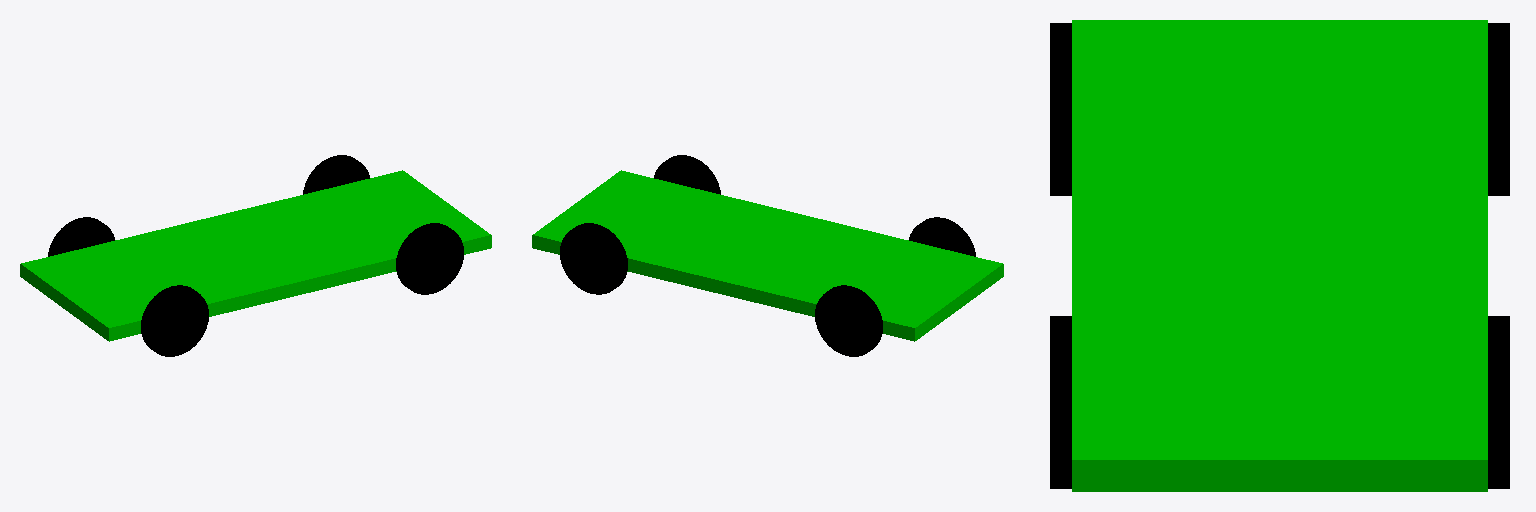
URDF robot description (first_robot):
<?xml version="1.0"?>
<robot name="first_robot">
    <material name="blue">
        <color rgba="0 0 0.8 1"/>
    </material>
    <material name="red">
        <color rgba="0.8 0 0 1"/>
    </material>
    <material name="green">
        <color rgba="0 0.8 0 1"/>
    </material>
    <material name="grey">
        <color rgba="0.75 0.75 0.75 1"/>
    </material>
    <material name="white">
        <color rgba="1.0 1.0 1.0 1"/>
    </material>
    <material name="black">
        <color rgba="0 0 0 1"/>
    </material>

    <link name="base_link">
        <visual>
        <origin rpy="0 0 0" xyz="0 0 0"/>
        <geometry>
            <box size="1.5 .6 .05"/>
        </geometry>
        <material name="green"/>
        </visual>
    </link>
    
    <link name="wheel_1_link">
        <visual>
            <origin rpy="1.57 0 0" xyz="0 0 0"/> <!-- center of the wheel -->
            <geometry>
                <cylinder radius="0.125" length="0.03125"/>
            </geometry>
            <material name="black"/>
        </visual>
    </link>
    
    <joint name="wheel_1_joint" type="continuous">
        <parent link="base_link"/>
        <child link="wheel_1_link"/>
        <origin xyz="0.5 0.315625 0" rpy="0 0 0"/> <!-- joint location -->
        <limit effort="0.1" velocity="0.01"/>
        <axis xyz="0 1 0"/>
    </joint>

    <link name="wheel_2_link">
        <visual>
            <origin rpy="1.57 0 0" xyz="0 0 0"/> <!-- center of the wheel -->
            <geometry>
                <cylinder radius="0.125" length="0.03125"/>
            </geometry>
            <material name="black"/>
        </visual>
    </link>
    
    <joint name="wheel_2_joint" type="continuous">
        <parent link="base_link"/>
        <child link="wheel_2_link"/>
        <origin xyz="-0.5 0.315625 0" rpy="0 0 0"/> <!-- joint location -->
        <limit effort="0.1" velocity="0.01"/>
        <axis xyz="0 1 0"/>
    </joint>
    
    <link name="wheel_3_link">
        <visual>
            <origin rpy="1.57 0 0" xyz="0 0 0"/> <!-- center of the wheel -->
            <geometry>
                <cylinder radius="0.125" length="0.03125"/>
            </geometry>
            <material name="black"/>
        </visual>
    </link>
    
    <joint name="wheel_3_joint" type="continuous">
        <parent link="base_link"/>
        <child link="wheel_3_link"/>
        <origin xyz="0.5 -0.315625 0" rpy="0 0 0"/> <!-- joint location -->
        <limit effort="0.1" velocity="0.01"/>
        <axis xyz="0 1 0"/>
    </joint>

    <link name="wheel_4_link">
        <visual>
            <origin rpy="1.57 0 0" xyz="0 0 0"/> <!-- center of the wheel -->
            <geometry>
                <cylinder radius="0.125" length="0.03125"/>
            </geometry>
            <material name="black"/>
        </visual>
    </link>
    
    <joint name="wheel_4_joint" type="continuous">
        <parent link="base_link"/>
        <child link="wheel_4_link"/>
        <origin xyz="-0.5 -0.315625 0" rpy="0 0 0"/> <!-- joint location -->
        <limit effort="0.1" velocity="0.01"/>
        <axis xyz="0 1 0"/>
    </joint>
</robot>

--- Facts derived from the render (not from the file) ---
The picture shows the robot from 3 angles, left to right: view 1: azimuth 30°, elevation 25°; view 2: azimuth 150°, elevation 25°; view 3: azimuth 270°, elevation 25°; orthographic projection.
Robot: first_robot — 5 links, 4 joints (4 continuous); root link base_link; default pose: all joints at 0.
Links seen in each view (by area): view 1: base_link, wheel_3_link, wheel_4_link, wheel_2_link, wheel_1_link; view 2: base_link, wheel_1_link, wheel_2_link, wheel_4_link, wheel_3_link; view 3: base_link, wheel_1_link, wheel_2_link, wheel_3_link, wheel_4_link.
Link boxes in pixels (bbox=[...]): base_link: bbox=[20, 170, 491, 341]; wheel_3_link: bbox=[396, 223, 463, 294]; wheel_4_link: bbox=[141, 285, 208, 356]; wheel_2_link: bbox=[48, 217, 114, 256]; wheel_1_link: bbox=[303, 155, 369, 194]; base_link: bbox=[532, 170, 1003, 341]; wheel_1_link: bbox=[560, 223, 627, 294]; wheel_2_link: bbox=[815, 285, 882, 356]; wheel_4_link: bbox=[909, 217, 975, 256]; wheel_3_link: bbox=[654, 155, 720, 194]; base_link: bbox=[1072, 20, 1487, 491]; wheel_1_link: bbox=[1488, 316, 1509, 488]; wheel_2_link: bbox=[1488, 23, 1509, 195]; wheel_3_link: bbox=[1050, 316, 1071, 488]; wheel_4_link: bbox=[1050, 23, 1071, 195].
Bounding box of the posed robot: 1.5 × 0.6627 × 0.25 m (x, y, z).
Geometry: primitives only (box / cylinder / sphere), no mesh files.
